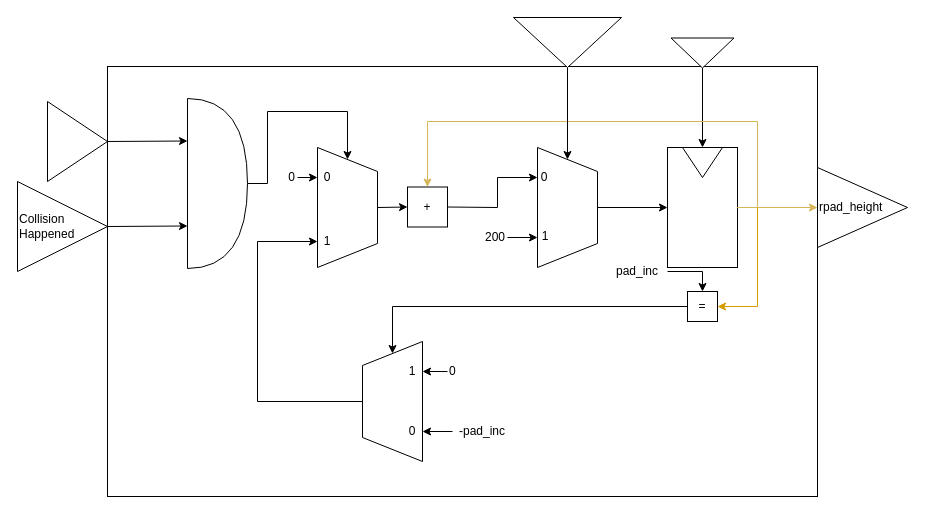
The diagram is 925 pixels wide and 514 high, and some of its shapes have lost their labels. Here are the shapes that lost their labels. From the top down, the centre of each, then its label:
At [567,42]: "Point Scored".
At [702,52]: "Pclk".
At [77,141]: "Shrink".
